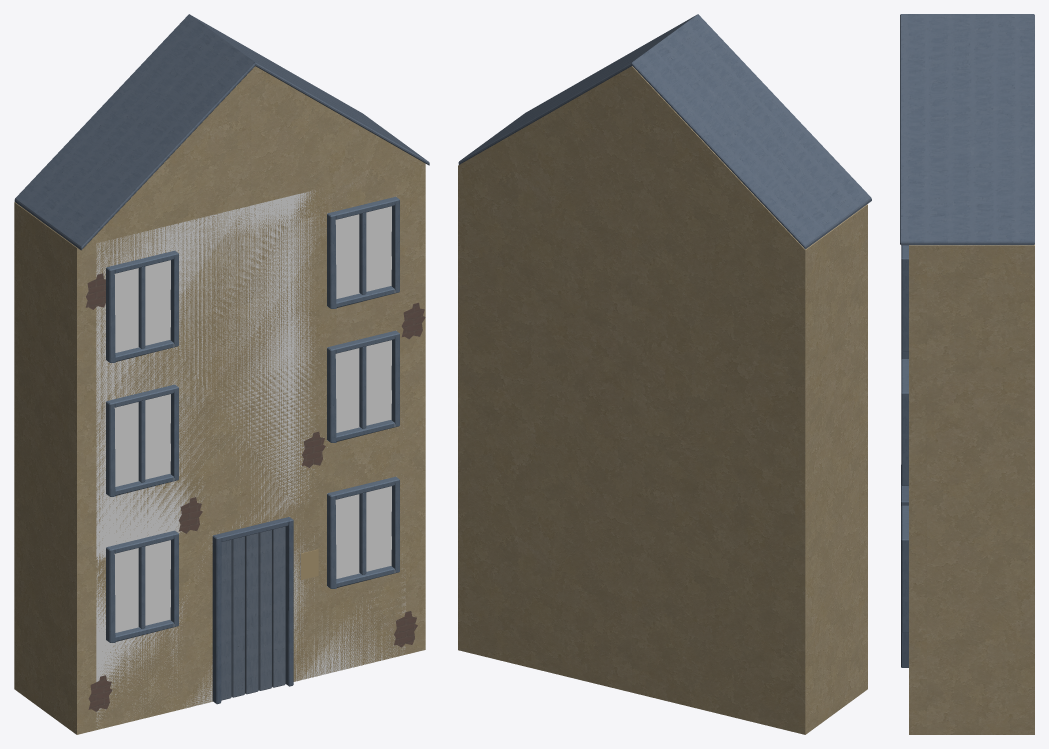
File: previous-facade.glb
3 views of the same model, side by side, from view 1: azimuth 30°, elevation 25°; view 2: azimuth 150°, elevation 25°; view 3: azimuth 270°, elevation 25° (orthographic).
Parts seen in each view (by area): view 1: VIS_plaster, COL_wall, VIS_joinery, VIS_brick; view 2: VIS_plaster, VIS_joinery; view 3: VIS_plaster, VIS_joinery.
Part boxes in pixels (box(x1,y1,x2,y2)): VIS_plaster: box(14, 66, 425, 734); COL_wall: box(96, 190, 405, 727); VIS_joinery: box(14, 14, 429, 704); VIS_brick: box(85, 273, 425, 711); VIS_plaster: box(458, 66, 867, 734); VIS_joinery: box(458, 14, 871, 249); VIS_plaster: box(909, 244, 1034, 734); VIS_joinery: box(900, 14, 1034, 667).
Size of the model in its own units: 4.5 by 7.8 by 1.5.
Materials: 3 (3 with a texture image).
